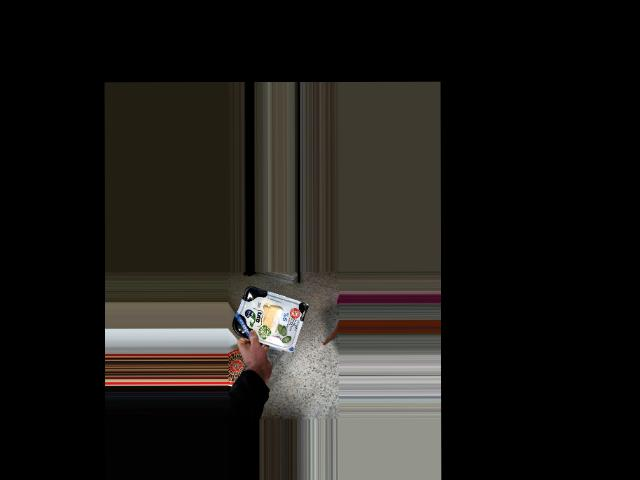cheese: (239, 295, 299, 342)
